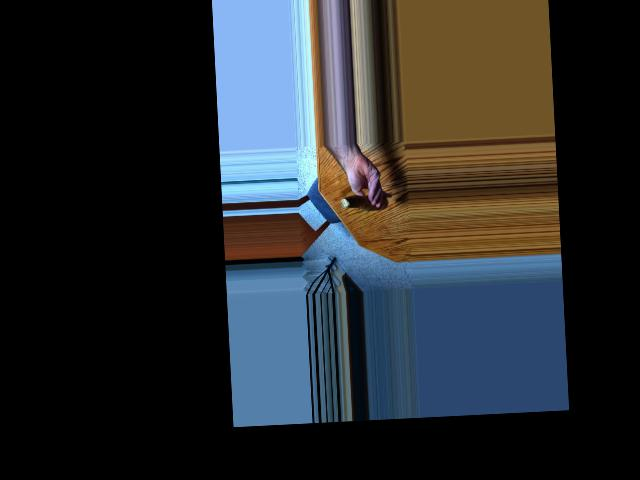sweet_potato: (343, 190, 384, 214)
